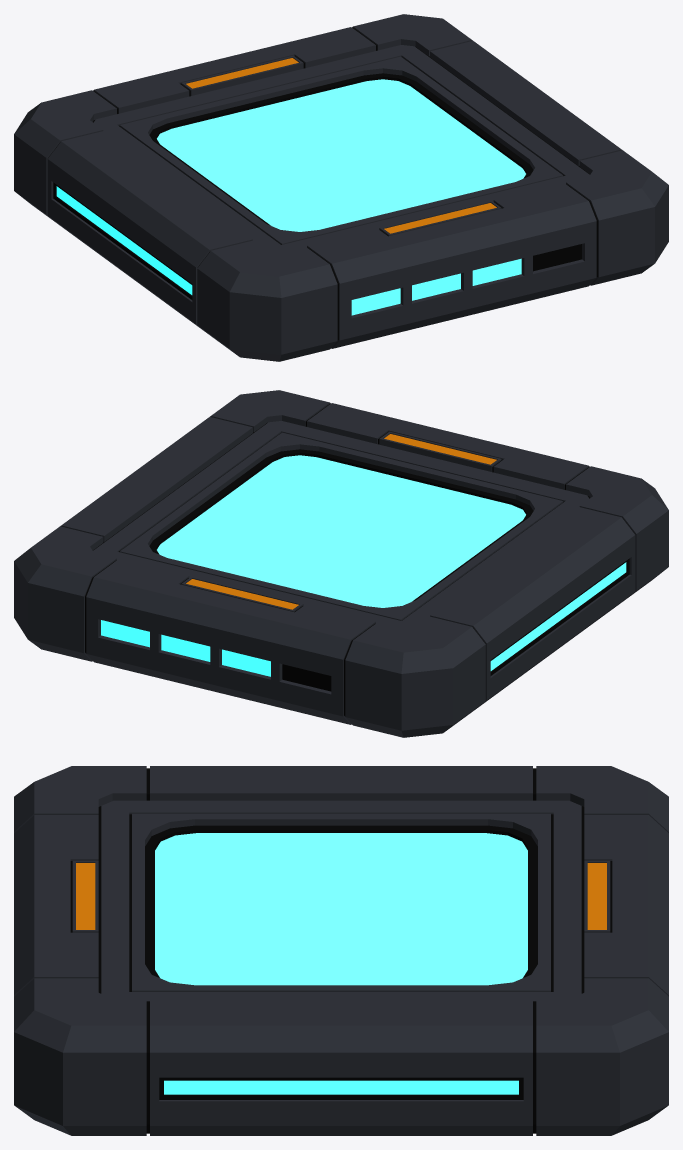
Rendered from SM_Floor_Display_Module.fbx.
3 views of the same model, one above another, from view 1: azimuth 30°, elevation 25°; view 2: azimuth 150°, elevation 25°; view 3: azimuth 270°, elevation 25° (orthographic). The views are drawn at different scales.
Parts seen in each view (by area): view 1: SM_Floor_Display_Module; view 2: SM_Floor_Display_Module; view 3: SM_Floor_Display_Module.
Part boxes in pixels (x1,y1,x2,y2): SM_Floor_Display_Module: [14, 14, 668, 361]; SM_Floor_Display_Module: [14, 390, 668, 737]; SM_Floor_Display_Module: [14, 766, 668, 1135].
Size of the model in its own units: 30 by 5.56 by 30.
